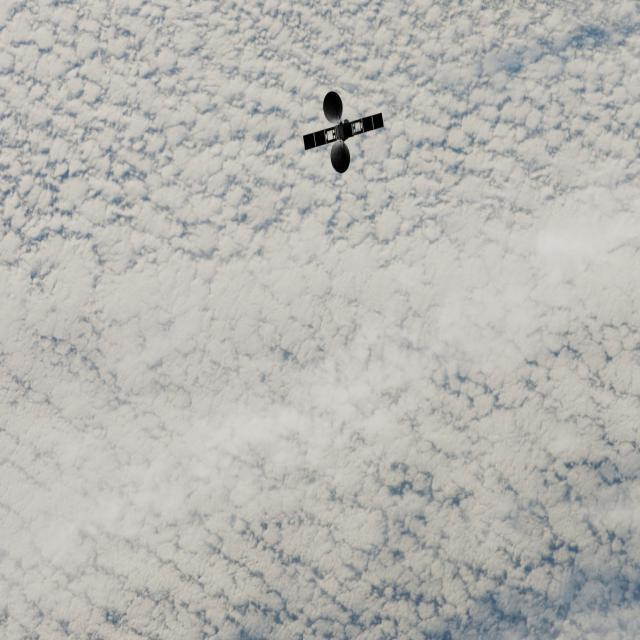medium_debris: (302, 94, 401, 172)
